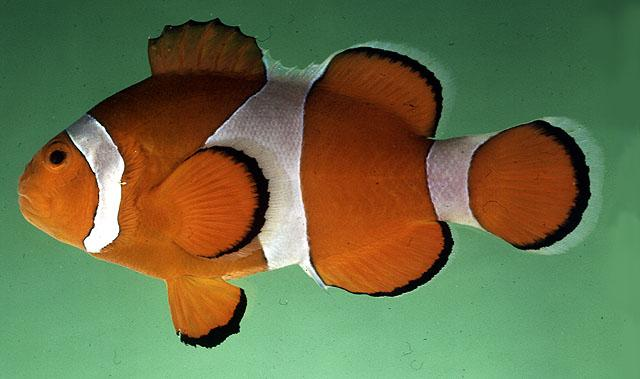Mulut: (0, 146, 58, 246)
Sirip Anal: (294, 209, 466, 312)
Sirip Dada: (137, 135, 296, 273)
Sirip Ekor: (463, 100, 619, 284)
Sirip Perut: (147, 257, 259, 361)
Sirip Punggung: (143, 2, 450, 138)
